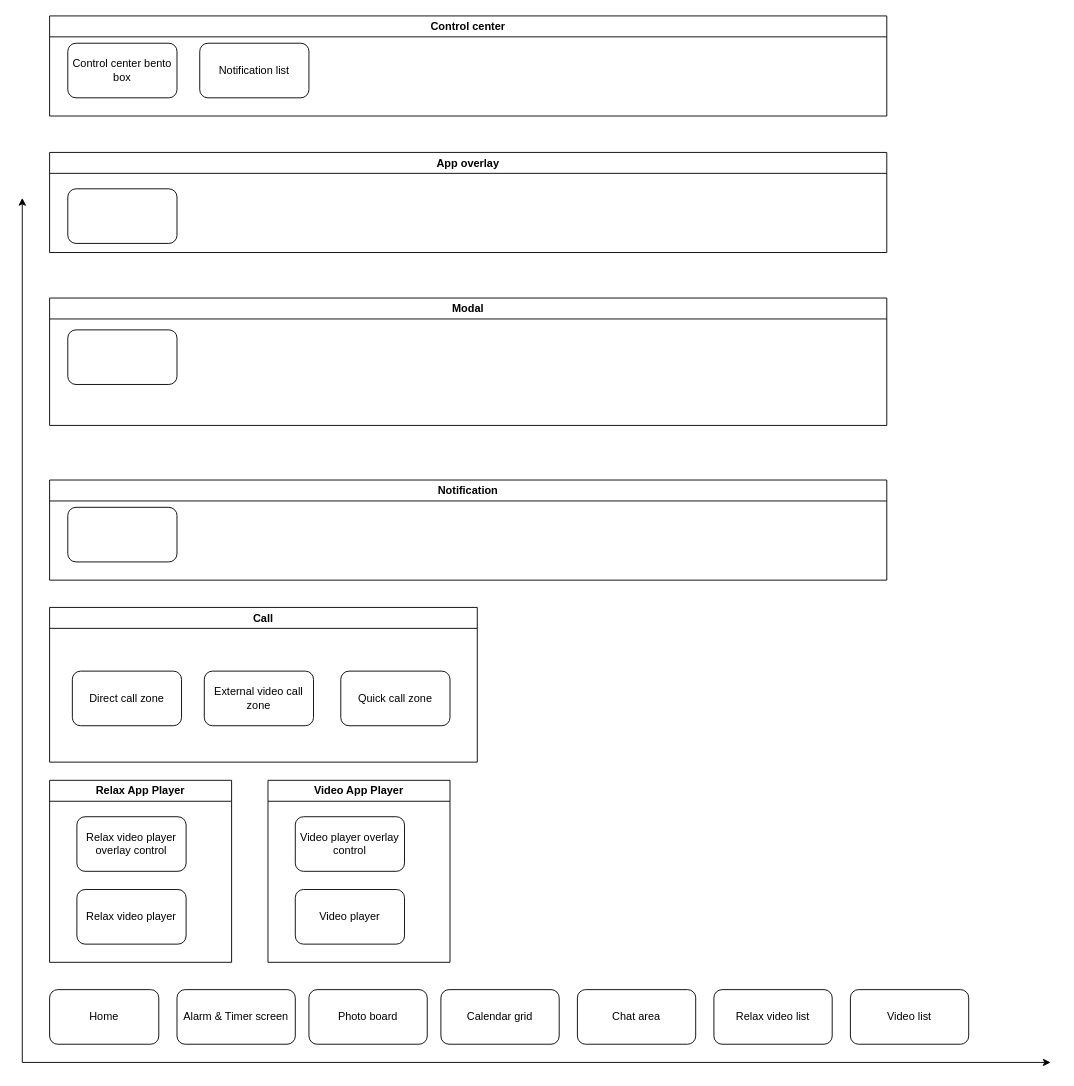
The diagram is 1074 pixels wide and 1086 high, and some of its shapes have lost their labels. The centre of each missing label's shape, as x and y in pixels:
"Chat message" goes at (122,534).
"Create/Edit event modal" goes at (122,356).
"Key board" goes at (122,215).
